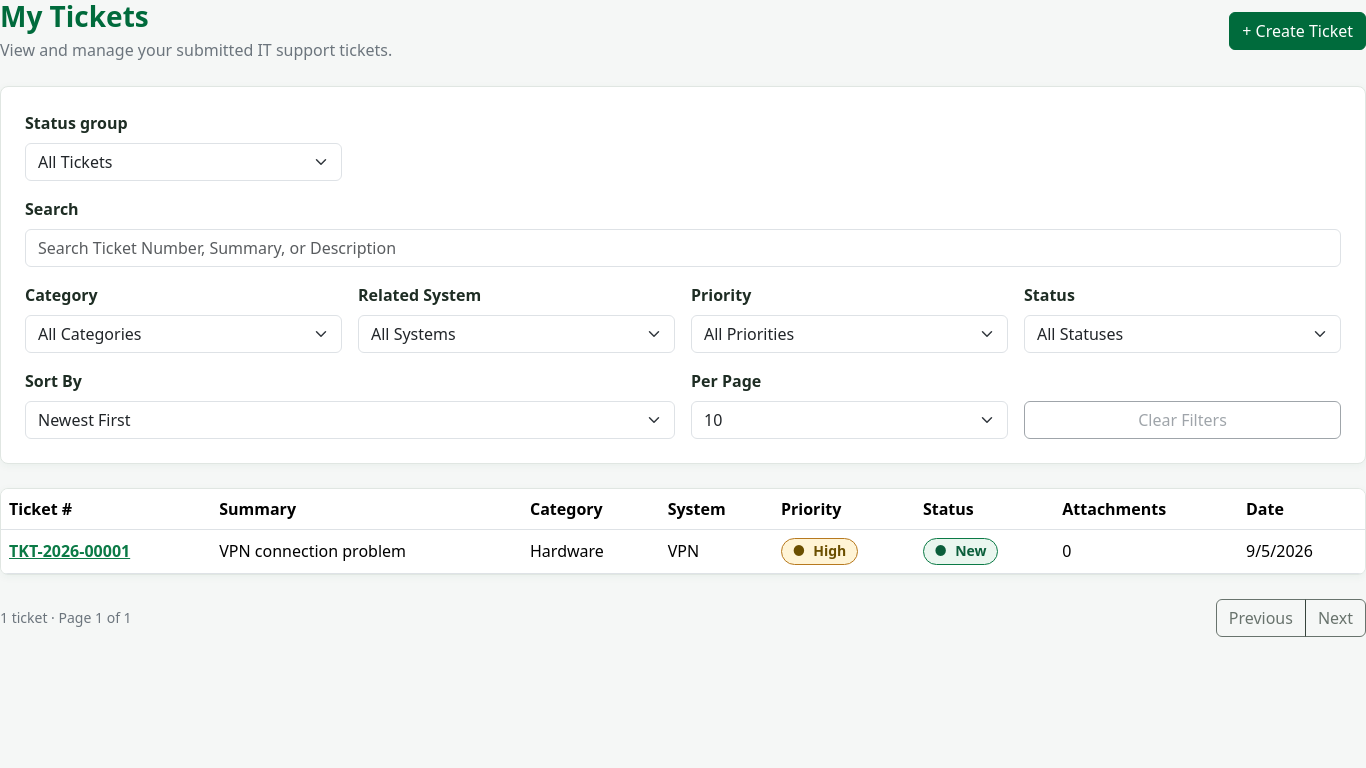
Scenario: Feature-E: My Tickets UI › UI-025 and UI-026: shows no-results state and clears filters
Step 1. Select "Urgent" in the dropdown labelled "Priority" → (850, 334), box [691,315,1008,353]
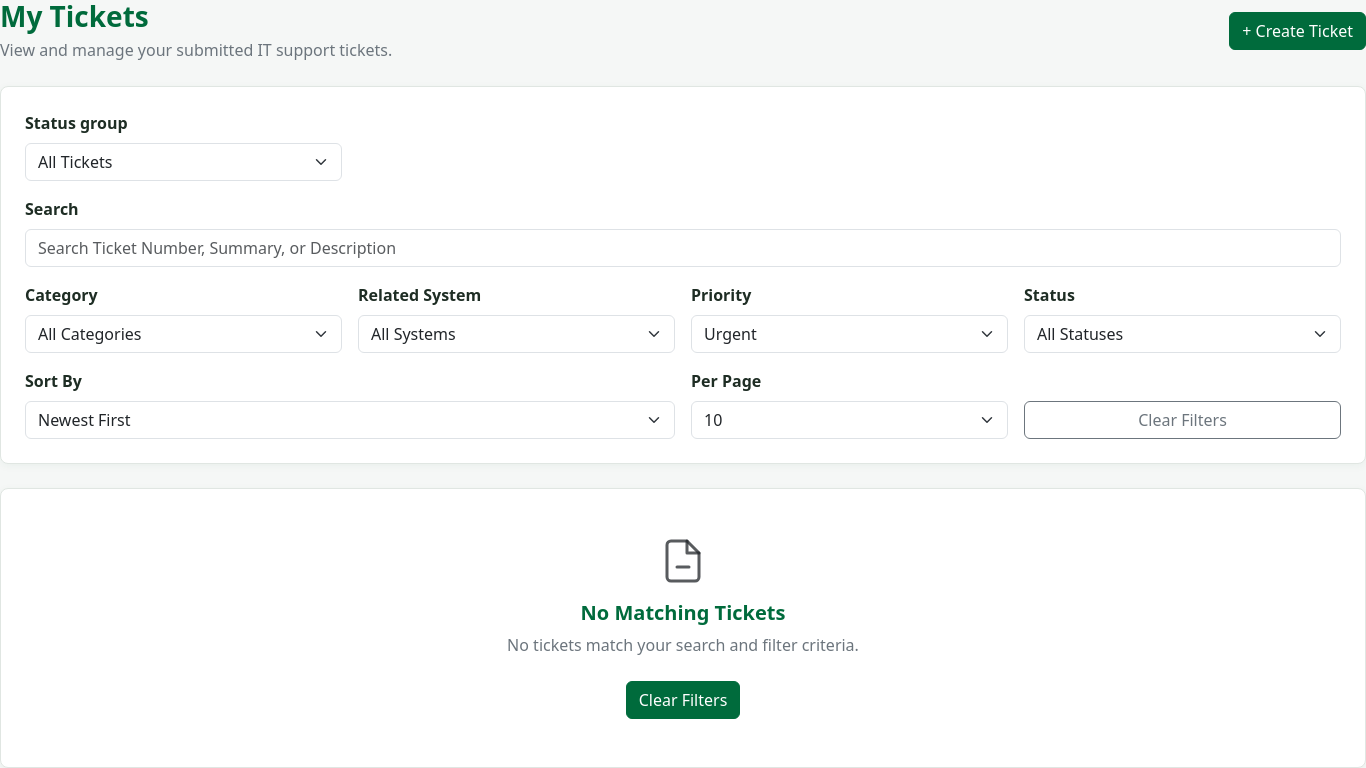
Check: the heading "No Matching Tickets" is shown, box [581,601,785,625]
Check: the text "No tickets match your search and filter criteria." is shown, box [507,633,859,657]
Step 2. Click the button "Clear Filters" below "No Matching Tickets" → (683, 700), box [626,681,740,719]
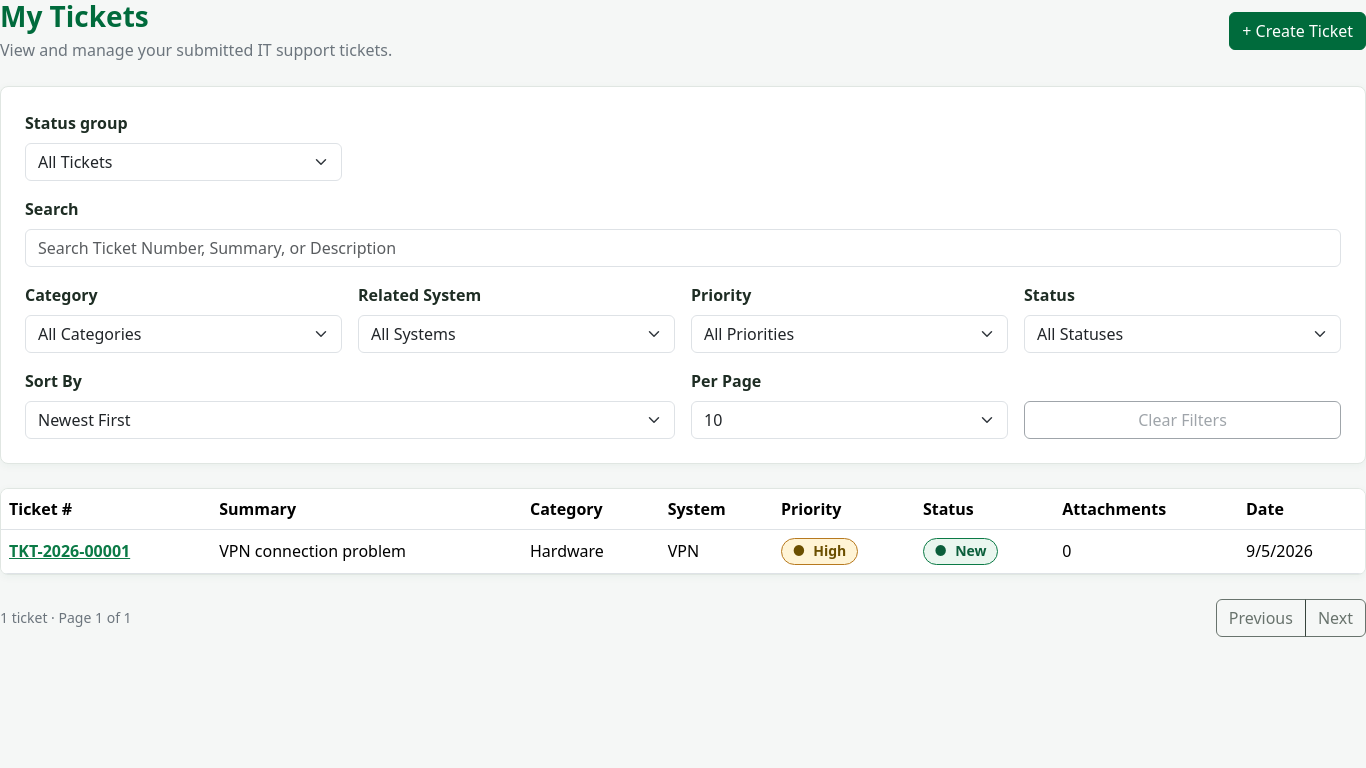
Check: the link "TKT-2026-00001" is shown, box [9,540,130,562]
